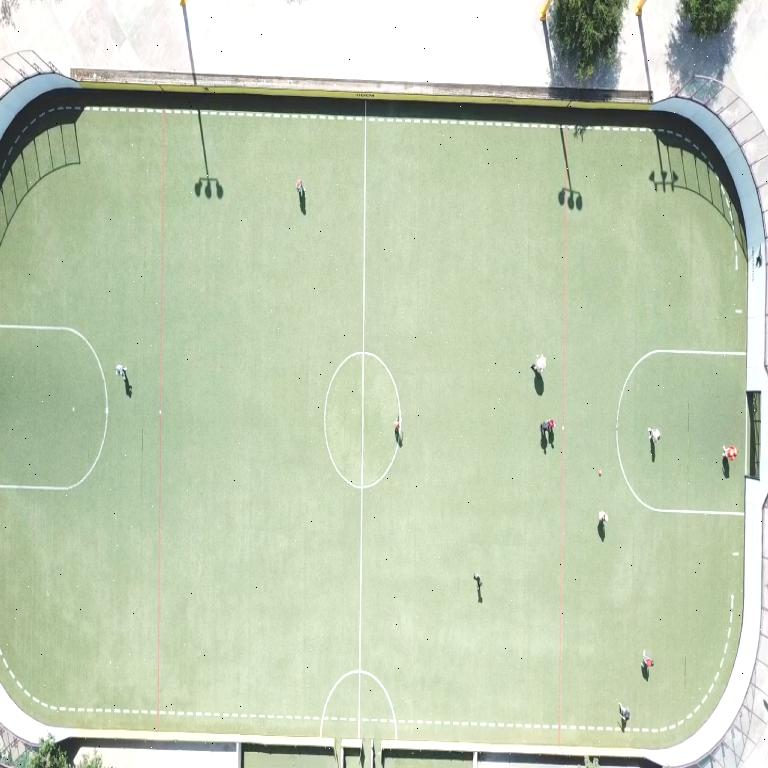AC: (616, 349, 745, 515), (0, 324, 108, 490)
B: (598, 469, 602, 476)
MC: (357, 102, 367, 738)
P: (531, 355, 545, 375), (723, 445, 738, 461), (619, 703, 630, 723), (395, 415, 402, 446), (648, 428, 661, 443), (644, 650, 653, 669), (296, 179, 305, 198), (116, 365, 127, 378), (599, 510, 608, 525), (473, 573, 481, 589), (539, 422, 548, 431), (549, 420, 556, 430)
